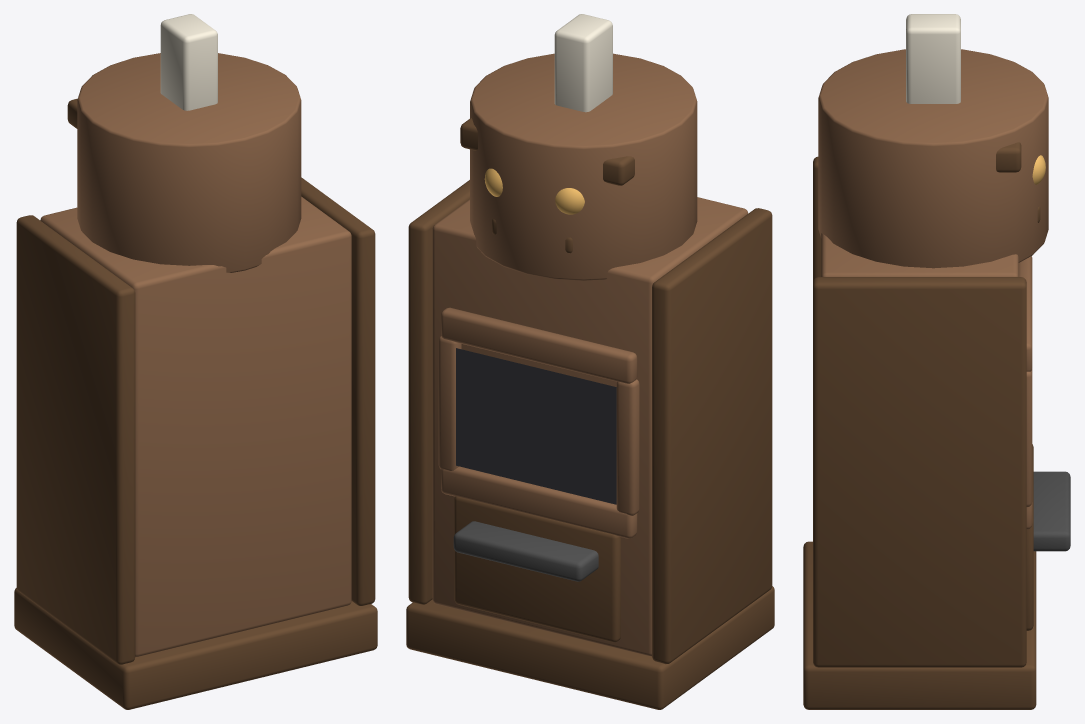
The model's file is tiki_cabinet.glb.
The picture shows the model from 3 angles, left to right: view 1: azimuth 30°, elevation 25°; view 2: azimuth 150°, elevation 25°; view 3: azimuth 270°, elevation 25°; orthographic projection. The views are drawn at different scales.
Visible parts, largest first — view 1: Body, SideL, Head, Base, SideR, Crest; view 2: SideL, Head, Body, ReelGlass, Base, BellyPlate, SideR, FrameTop, FrameBot, Crest, ButtonLedge, FrameL (+3 smaller); view 3: SideR, Head, Base, Crest, Body, ButtonLedge, BellyPlate, FrameR, FrameTop, SideL, Brow.
Part boxes in pixels (<box>): Body: <box>40,196,351,656</box>; SideL: <box>16,215,135,664</box>; Head: <box>77,53,301,272</box>; Base: <box>14,588,377,709</box>; SideR: <box>301,177,375,605</box>; Crest: <box>160,14,217,110</box>; SideL: <box>652,208,772,664</box>; Head: <box>470,53,697,280</box>; Body: <box>432,197,748,656</box>; ReelGlass: <box>456,348,616,504</box>; Base: <box>406,586,774,709</box>; BellyPlate: <box>454,496,620,642</box>; SideR: <box>408,180,469,604</box>; FrameTop: <box>441,307,637,383</box>; FrameBot: <box>441,466,637,538</box>; Crest: <box>554,14,612,112</box>; ButtonLedge: <box>453,521,598,581</box>; FrameL: <box>616,379,639,515</box>; SideR: <box>813,277,1026,667</box>; Head: <box>818,49,1048,268</box>; Base: <box>803,541,1036,709</box>; Crest: <box>906,14,960,103</box>; Body: <box>821,233,1018,276</box>; ButtonLedge: <box>1033,471,1070,551</box>; BellyPlate: <box>1026,444,1033,630</box>; FrameR: <box>1026,369,1032,507</box>; FrameTop: <box>1018,256,1032,371</box>; SideL: <box>813,156,821,281</box>; Brow: <box>996,142,1021,172</box>.
Bounding box in the file's own units: 1.12 × 2.52 × 0.975.
